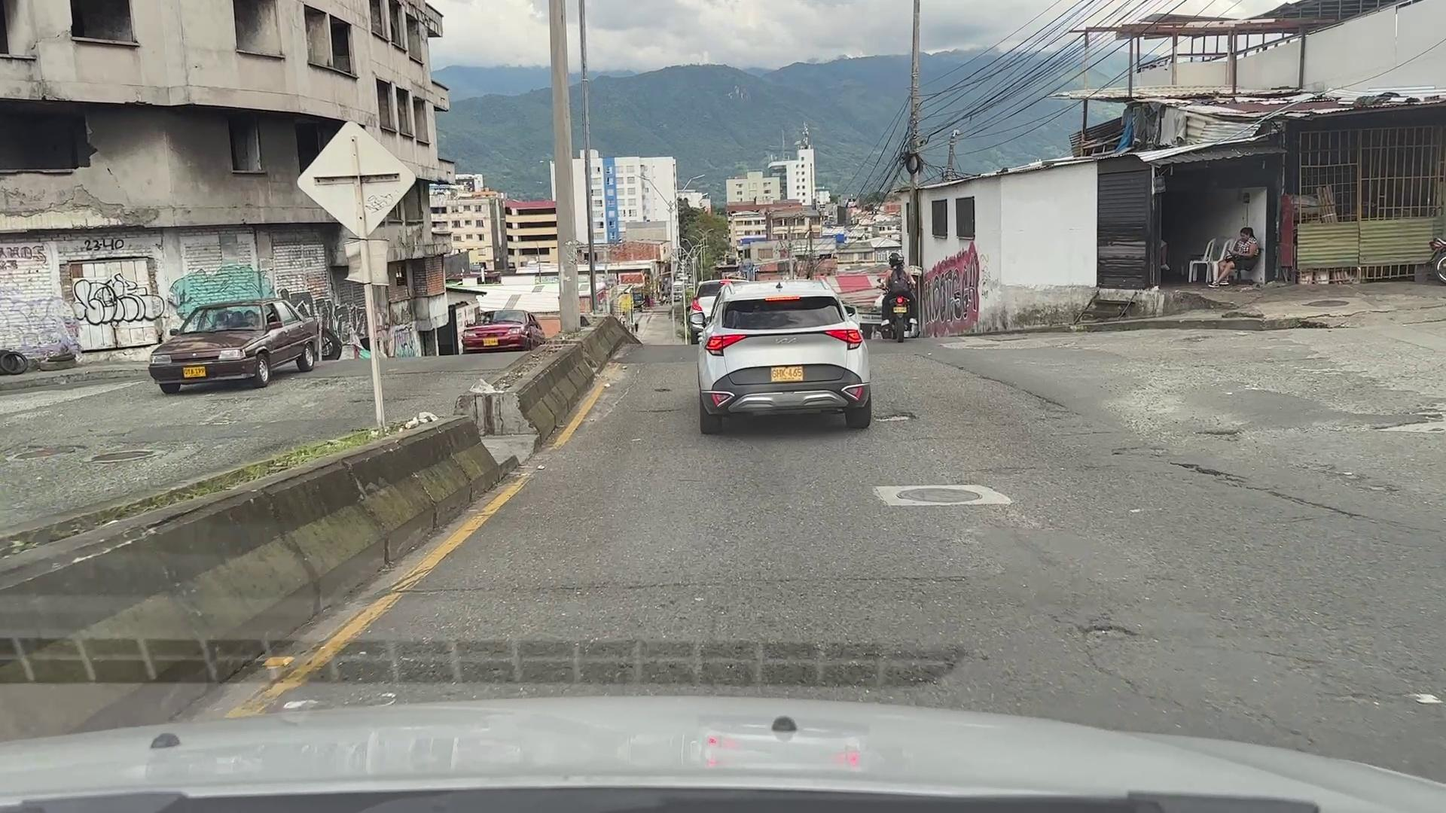bache: (1170, 461, 1248, 488), (1085, 624, 1137, 638), (1196, 429, 1244, 436), (878, 413, 915, 422), (654, 388, 670, 391)
grieta: (1246, 487, 1369, 521)
registro: (901, 488, 979, 503)
